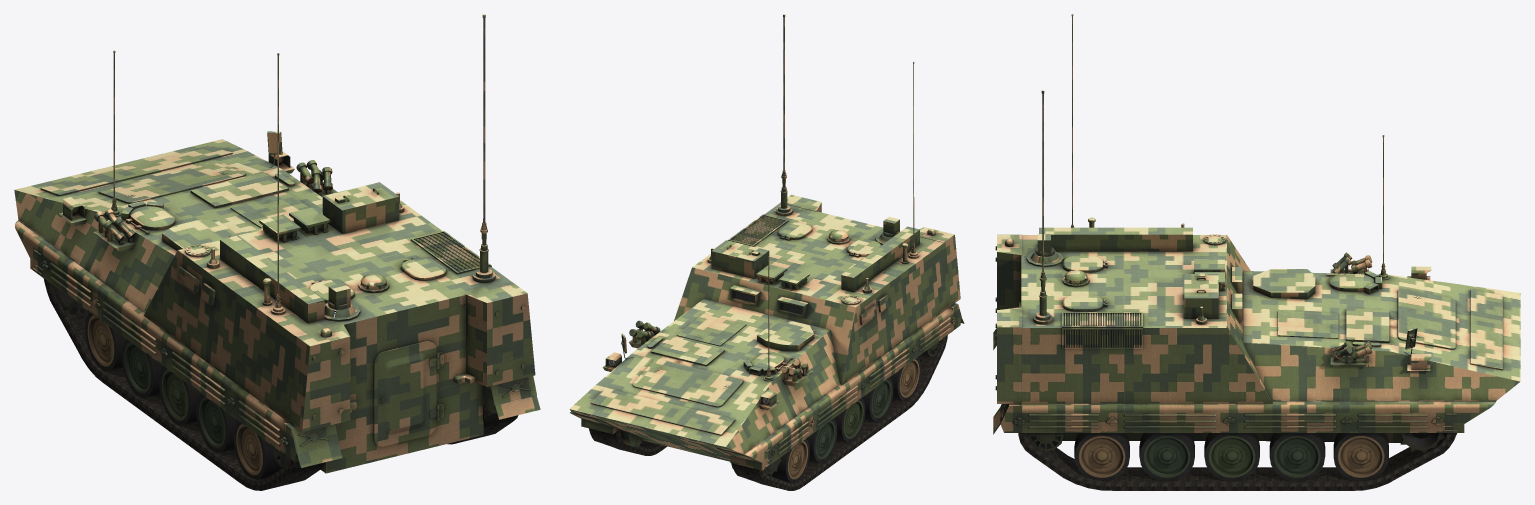
The model's file is A02_LDSZHC.glb.
3 views of the same model, side by side, from view 1: azimuth 30°, elevation 25°; view 2: azimuth 150°, elevation 25°; view 3: azimuth 270°, elevation 25° (orthographic). The views are drawn at different scales.
Visible parts, largest first — view 1: A02ZHC; view 2: A02ZHC; view 3: A02ZHC.
Boxes of the visible parts, bbox=[...] form: A02ZHC: bbox=[14, 14, 540, 490]; A02ZHC: bbox=[569, 14, 964, 490]; A02ZHC: bbox=[993, 14, 1520, 490].
Size of the model in its own units: 3.25 by 5.65 by 6.91.
5 materials, 5 textured.
